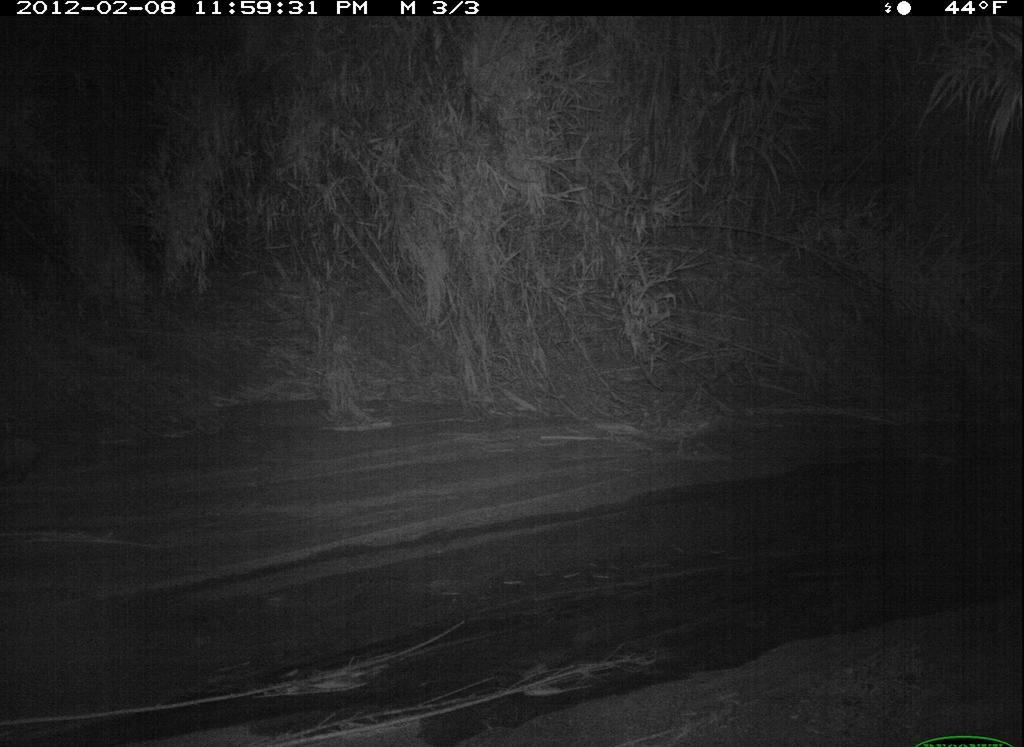opossum: (1, 431, 80, 493)
